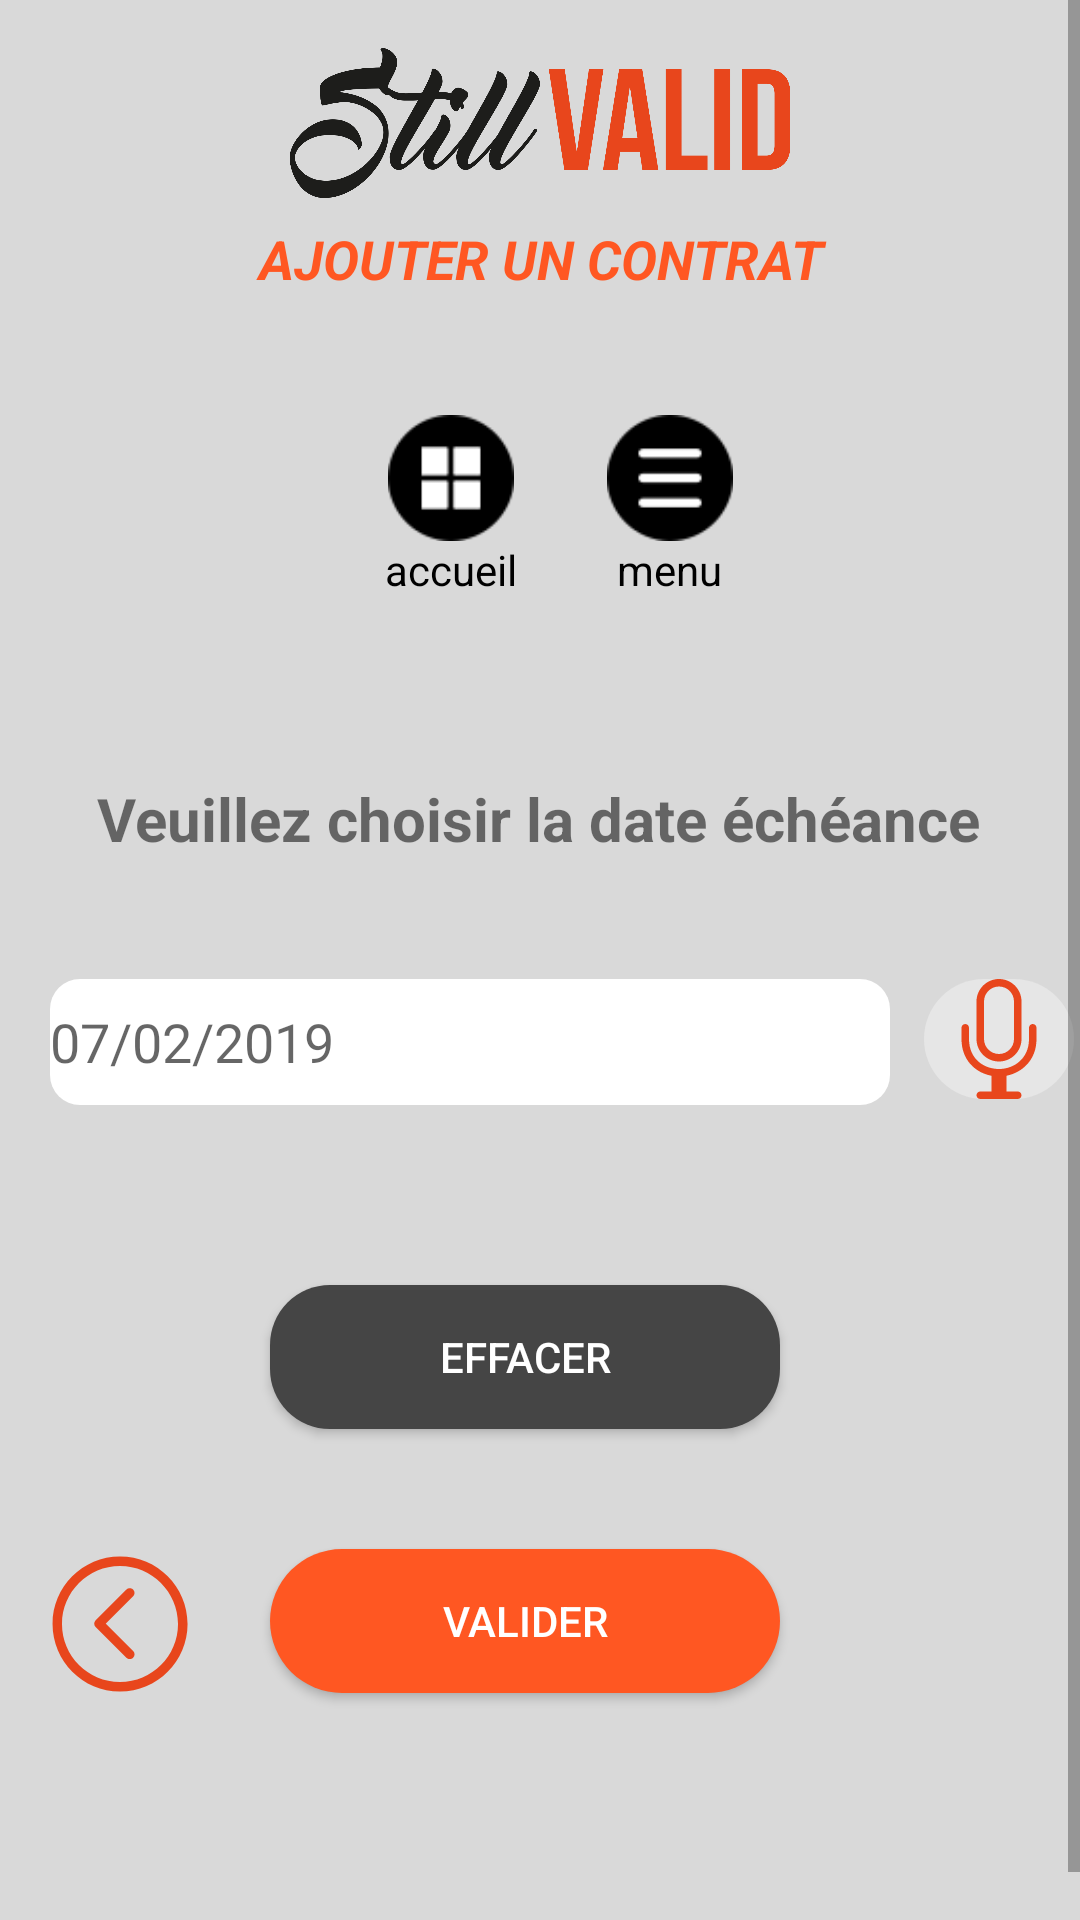

Screen size 1080x1920. Icon name, then its center in pixels as [x,y]:
left: [120,1624]
microphone: [999,1039]
